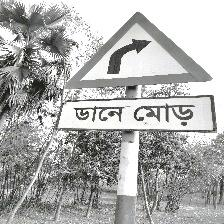Right-turn: (61, 11, 217, 133)
